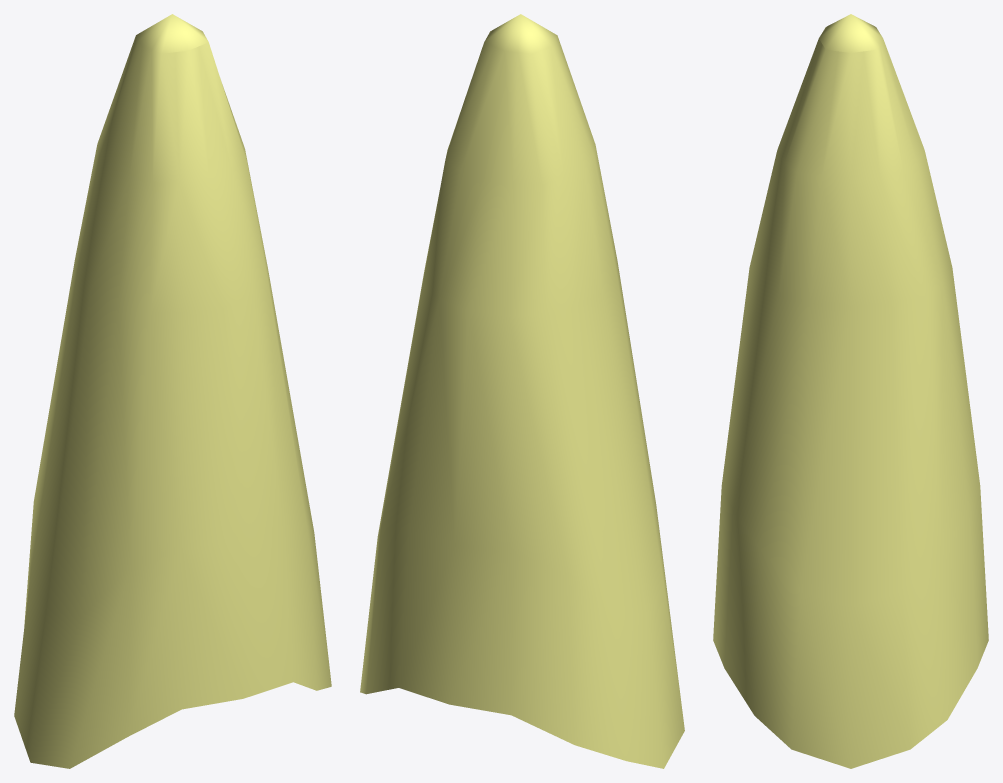
The model's file is D61R_Raiz.obj.
3 views of the same model, side by side, from view 1: azimuth 30°, elevation 25°; view 2: azimuth 150°, elevation 25°; view 3: azimuth 270°, elevation 25° (orthographic). The views are drawn at different scales.
Parts seen in each view (by area): view 1: D61R_Raiz; view 2: D61R_Raiz; view 3: D61R_Raiz.
Boxes of the visible parts, x1,y1,x2,y2 form: D61R_Raiz: (14,14,331,768); D61R_Raiz: (360,14,684,768); D61R_Raiz: (713,14,988,768).
Size of the model in its own units: 4.5 by 11.16 by 3.96.
